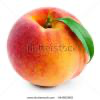Peach leaf: (52, 15, 95, 64)
